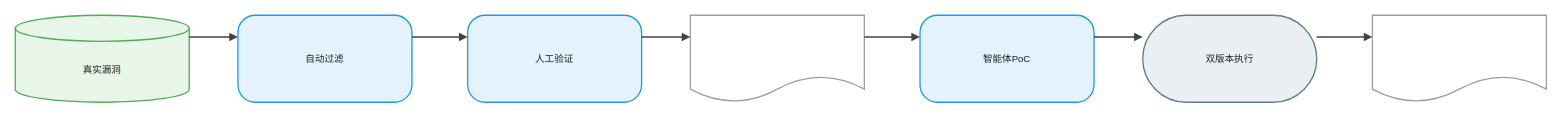
Image size: 1563x118. Some labels were removed from this diagram. The shapes that lost their labels are listed below. From the top down, each one's centre as x and y in pixels, then its label:
At (x=777, y=58): "补丁前代码".
At (x=1459, y=58): "指标与发现".
